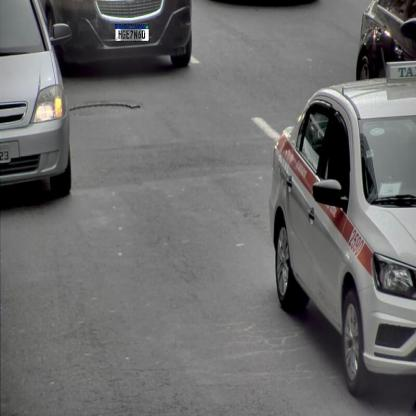PlacaM: (115, 24, 149, 42)
